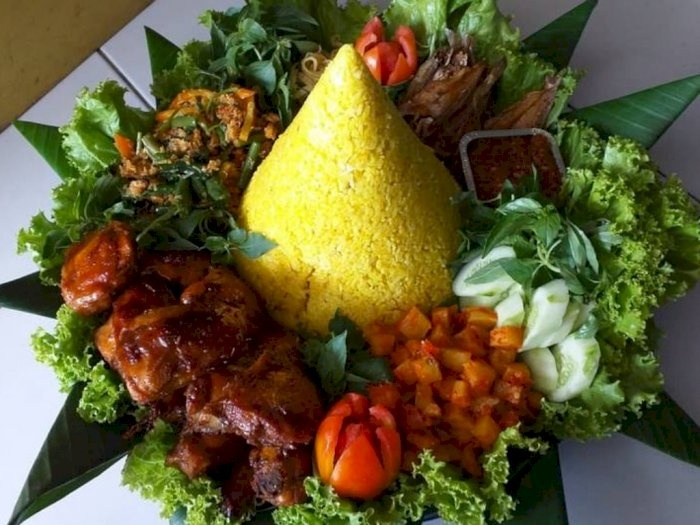tumpeng: (237, 31, 445, 294)
